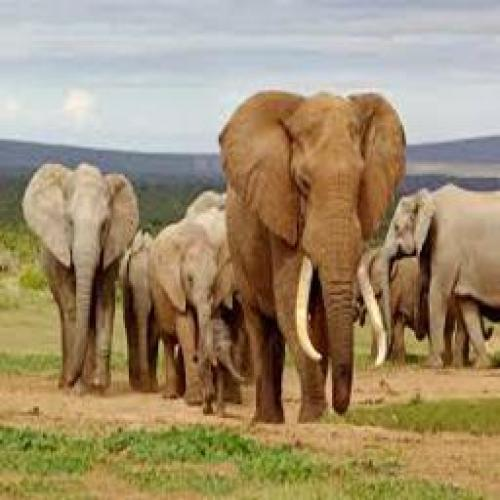african_elephant-endangered: (217, 90, 411, 426), (21, 164, 142, 392), (377, 181, 500, 371), (118, 216, 225, 398), (349, 242, 474, 372), (184, 313, 242, 418)
